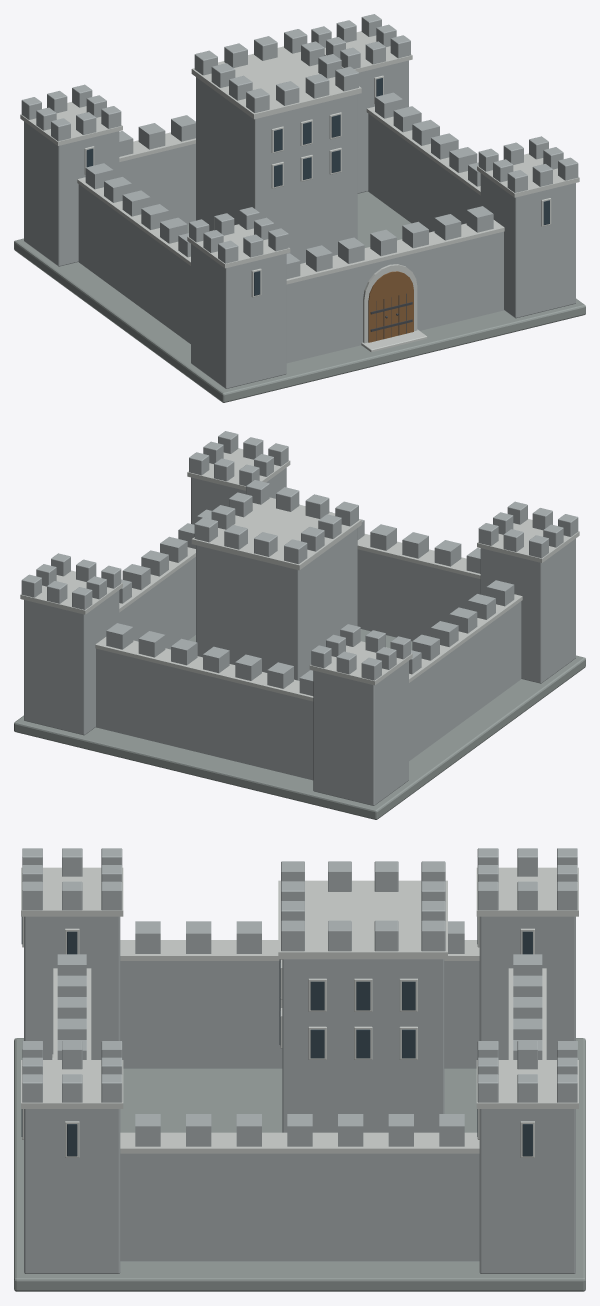
The model's file is castle_square_keep.glb.
3 renders of one model, top to bottom at view 1: azimuth 30°, elevation 25°; view 2: azimuth 150°, elevation 25°; view 3: azimuth 270°, elevation 25°, orthographic. The views are drawn at different scales.
Parts seen in each view (by area): view 1: Tall central square keep, Square fortress courtyard foundation, Square fortress end curtain wall, Square corner tower, Square corner tower.002, Square fortress side curtain wall, Square corner tower.001, Square fortress side curtain wall.001, Square fortress end curtain wall.001, Central keep roof coping, Square fortress main gate closed wooden gate, Square corner tower.003 (+33 smaller); view 2: Square fortress end curtain wall.001, Tall central square keep, Square fortress courtyard foundation, Square corner tower.001, Square corner tower.003, Square fortress side curtain wall, Square corner tower, Square fortress end curtain wall, Square fortress side curtain wall.001, Central keep roof coping, End curtain coping.001, Square corner tower.002 (+30 smaller); view 3: Square fortress side curtain wall.001, Square fortress courtyard foundation, Tall central square keep, Square fortress side curtain wall, Square corner tower.002, Square corner tower.003, Square corner tower.001, Square corner tower, Central keep roof coping, Side curtain coping.001, Side curtain coping, Square tower coping (+45 smaller).
Part boxes in pixels (<box>): Tall central square keep: <box>196,77,357,263</box>; Square fortress courtyard foundation: <box>14,191,585,402</box>; Square fortress end curtain wall: <box>286,231,503,363</box>; Square corner tower: <box>191,244,286,388</box>; Square corner tower.002: <box>480,173,575,318</box>; Square fortress side curtain wall: <box>78,184,190,343</box>; Square corner tower.001: <box>24,121,119,266</box>; Square fortress side curtain wall.001: <box>368,113,480,232</box>; Square fortress end curtain wall.001: <box>119,143,195,224</box>; Central keep roof coping: <box>191,46,361,119</box>; Square fortress main gate closed wooden gate: <box>368,271,413,342</box>; Square corner tower.003: <box>357,60,408,193</box>; Square fortress end curtain wall.001: <box>96,648,313,780</box>; Tall central square keep: <box>196,528,357,680</box>; Square fortress courtyard foundation: <box>14,629,585,819</box>; Square corner tower.001: <box>313,661,408,805</box>; Square corner tower.003: <box>24,590,119,735</box>; Square fortress side curtain wall: <box>409,601,521,760</box>; Square corner tower: <box>480,538,575,683</box>; Square fortress end curtain wall: <box>357,549,480,641</box>; Square fortress side curtain wall.001: <box>119,557,195,649</box>; Central keep roof coping: <box>191,497,361,570</box>; End curtain coping.001: <box>95,637,313,701</box>; Square corner tower.002: <box>191,468,286,524</box>; Square fortress side curtain wall.001: <box>120,1153,479,1261</box>; Square fortress courtyard foundation: <box>14,1038,585,1291</box>; Tall central square keep: <box>282,959,444,1132</box>; Square fortress side curtain wall: <box>120,961,479,1068</box>; Square corner tower.002: <box>24,1109,120,1273</box>; Square corner tower.003: <box>479,1109,575,1273</box>; Square corner tower.001: <box>479,916,575,1059</box>; Square corner tower: <box>24,916,120,1059</box>; Central keep roof coping: <box>278,880,447,959</box>; Side curtain coping.001: <box>120,1132,479,1153</box>; Side curtain coping: <box>120,940,479,960</box>; Square tower coping: <box>21,867,123,916</box>.
Bounding box in the file's own units: 22.6 × 12.03 × 22.6.
